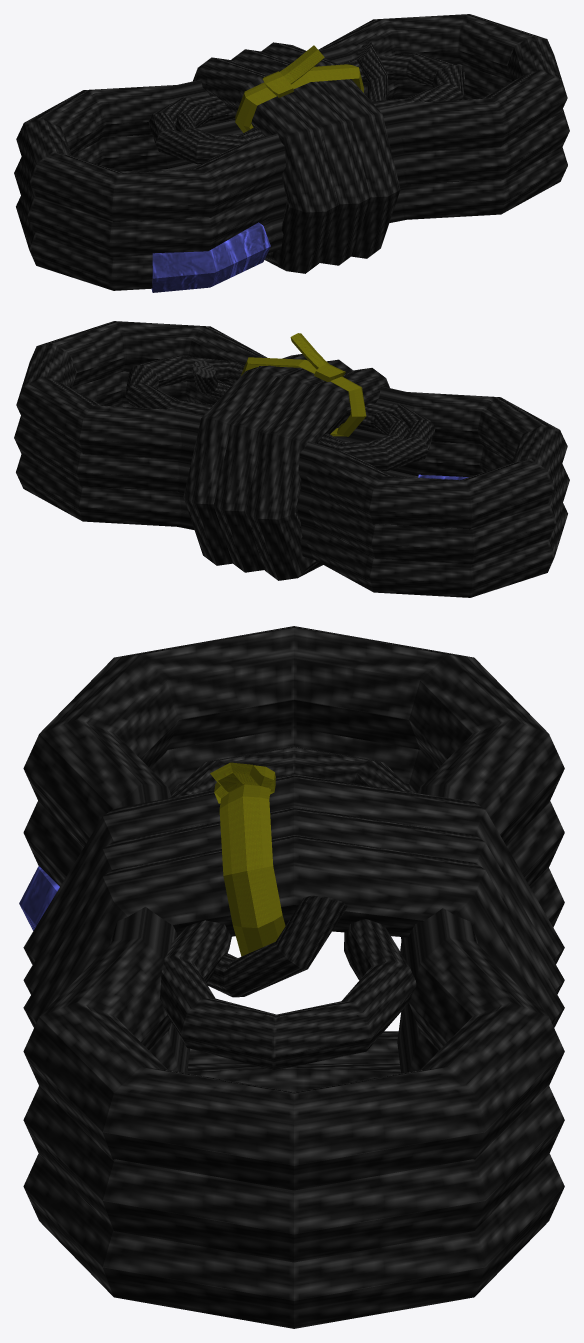
Rendered from CuerdaAtadaSmooth.fbx.
3 views of the same model, one above another, from view 1: azimuth 30°, elevation 25°; view 2: azimuth 150°, elevation 25°; view 3: azimuth 270°, elevation 25° (orthographic). The views are drawn at different scales.
Visible parts, largest first — view 1: Torus.001, Cylinder, Torus.010; view 2: Torus.001, Torus.010; view 3: Torus.001, Torus.010, Cylinder.
Part boxes in pixels (box(x1,y1,x2,y2)): Torus.001: box(14, 14, 569, 290); Cylinder: box(151, 222, 270, 292); Torus.010: box(235, 45, 363, 132); Torus.001: box(14, 321, 569, 597); Torus.010: box(240, 333, 366, 436); Torus.001: box(23, 626, 564, 1328); Torus.010: box(210, 762, 285, 956); Cylinder: box(19, 866, 59, 930).
Size of the model in its own units: 564 by 205 by 252.
